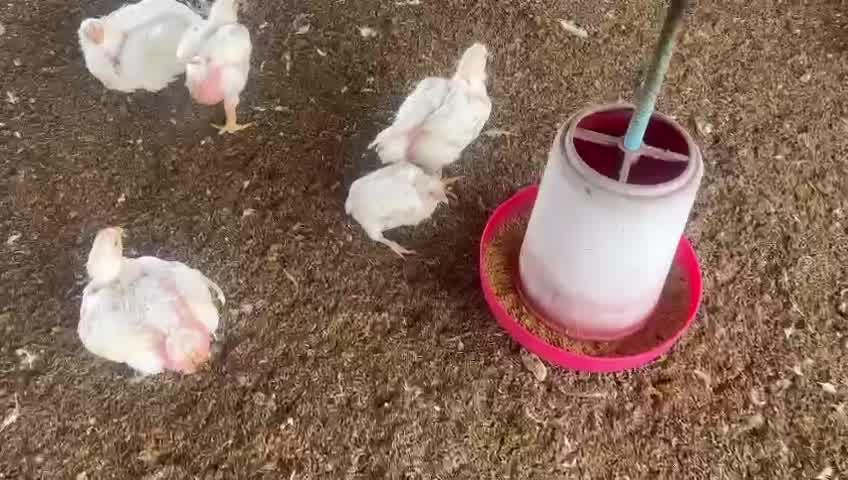AbNormal: (77, 228, 221, 375), (79, 8, 204, 94), (349, 159, 453, 260)
Normal: (372, 43, 490, 166), (181, 3, 258, 136)
